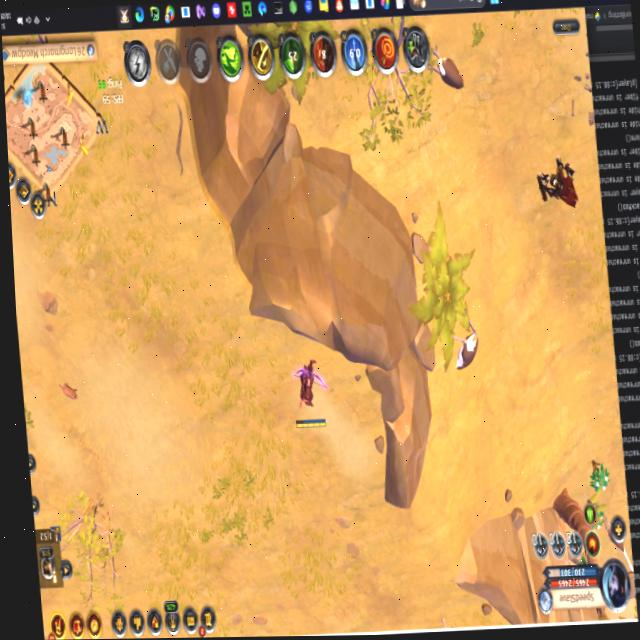hide: (589, 460, 611, 494)
mob: (447, 317, 484, 375)
ore: (535, 157, 579, 211), (425, 46, 465, 99)
red: (289, 356, 330, 432)
